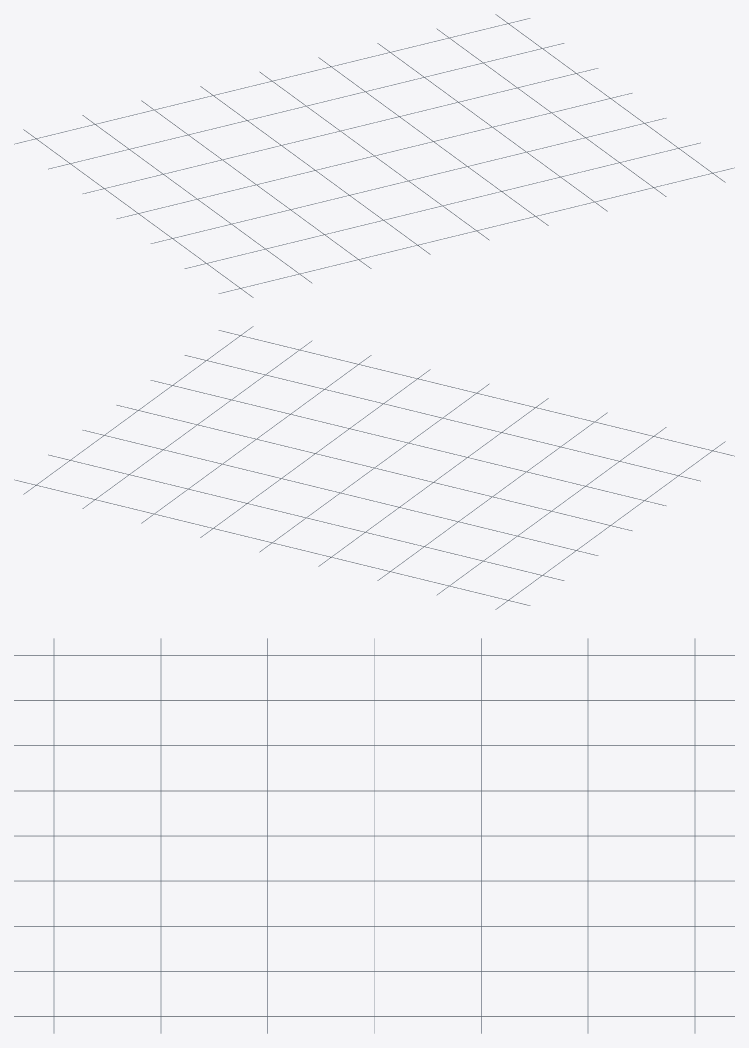
The model's file is 01_PS_Studio_FloorSeams.glb.
3 views of the same model, one above another, from view 1: azimuth 30°, elevation 25°; view 2: azimuth 150°, elevation 25°; view 3: azimuth 270°, elevation 25° (orthographic). The views are drawn at different scales.
Visible parts, largest first — view 1: PS_Studio_FloorSeams; view 2: PS_Studio_FloorSeams; view 3: PS_Studio_FloorSeams.
Part boxes in pixels (x1=…): PS_Studio_FloorSeams: x1=14, y1=14, x2=734, y2=297; PS_Studio_FloorSeams: x1=14, y1=326, x2=734, y2=609; PS_Studio_FloorSeams: x1=14, y1=638, x2=734, y2=1033.
Bounding box in the file's own units: 17.5 × 0.009 × 13.5.
